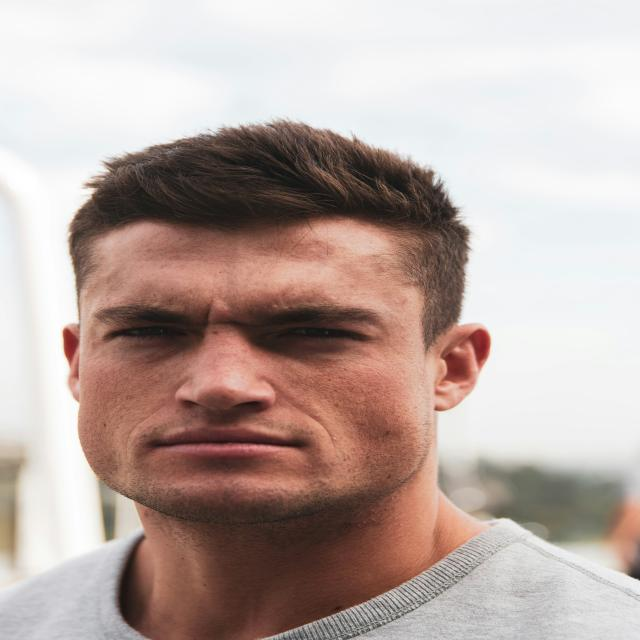human: (19, 119, 640, 640)
